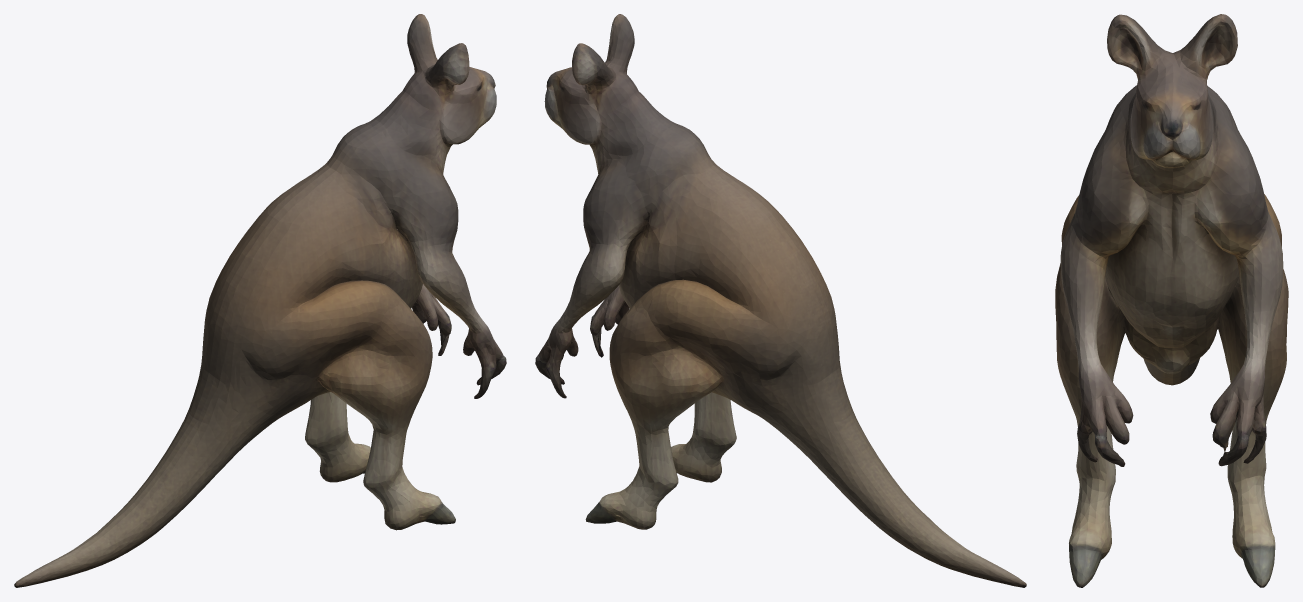
The picture shows the model from 3 angles, left to right: view 1: azimuth 30°, elevation 25°; view 2: azimuth 150°, elevation 25°; view 3: azimuth 270°, elevation 25°; orthographic projection. The views are drawn at different scales.
Parts seen in each view (by area): view 1: world; view 2: world; view 3: world.
Boxes of the visible parts, x1=… form: world: x1=14, y1=14, x2=506, y2=587; world: x1=535, y1=14, x2=1026, y2=587; world: x1=1055, y1=14, x2=1288, y2=587.
Bounding box in the file's own units: 1 × 0.9224 × 0.3322.
1 material, 1 textured.
